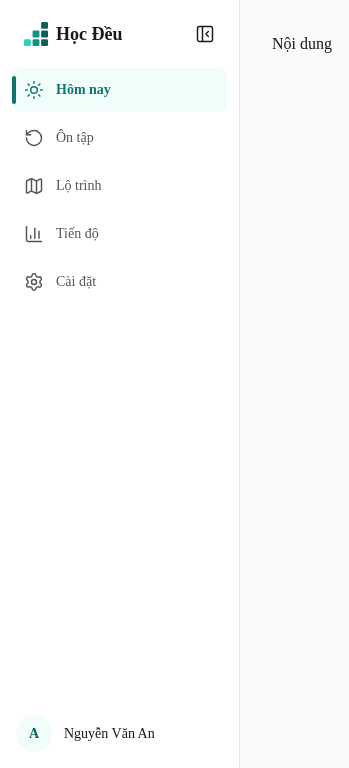
Test: AppShell navigation › collapses the sidebar
The width and height of the screenshot is (349, 768).
Click the button named "Thu gọn thanh bên": (205, 34) [183, 12, 227, 56]
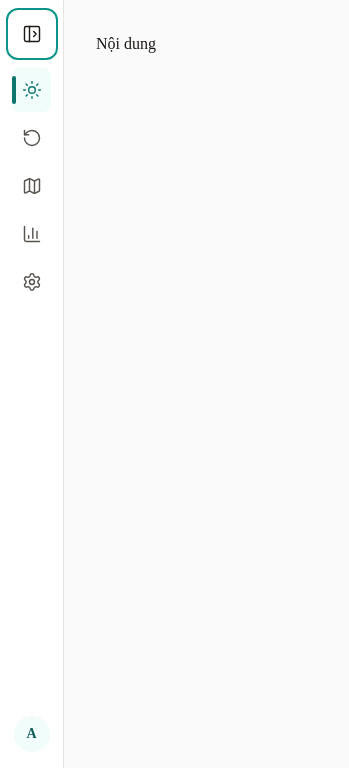
Check: the button named "Mở rộng thanh bên" is collapsed, box [10, 12, 54, 56]
